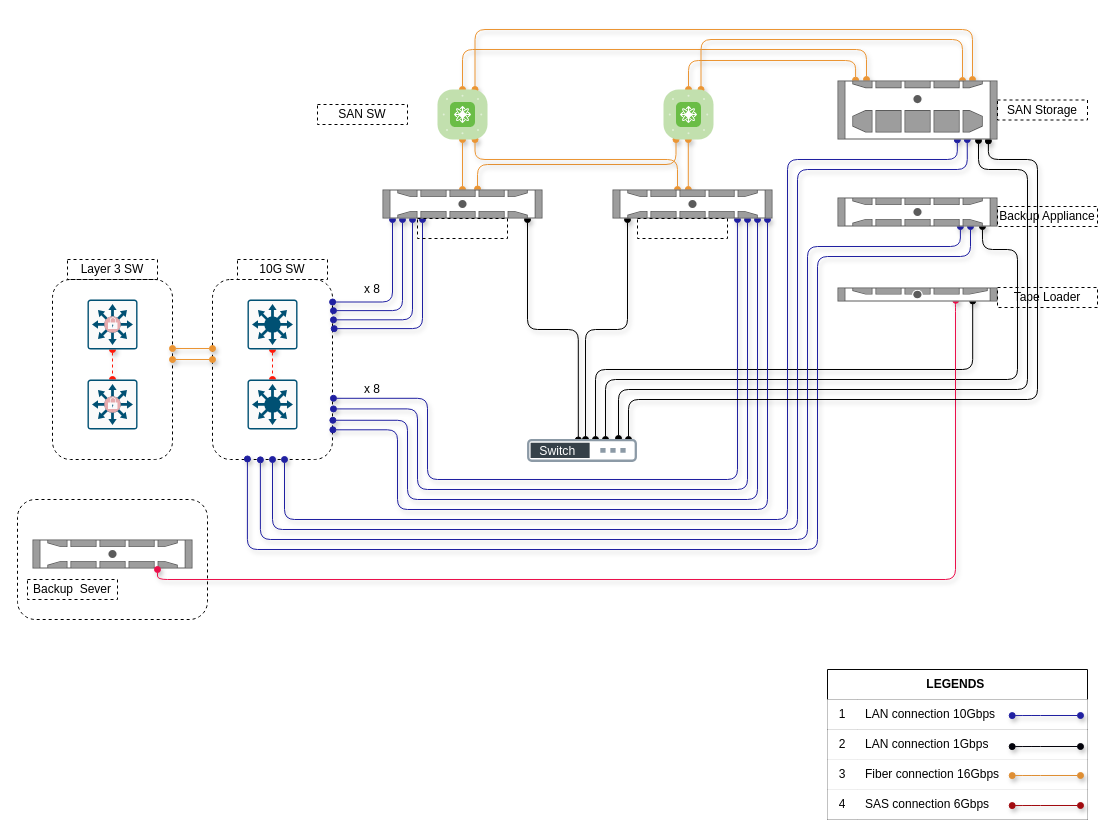
This 1115x840 diagram has some shape labels left out. Here are the shapes that lost their labels. From the top down, the centre of each, then its label:
At (462,228): "Host 1".
At (682,228): "Host 2".
